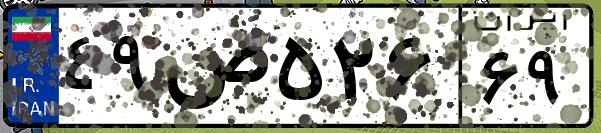2: (330, 28, 385, 110)
4: (57, 26, 110, 100)
5: (270, 28, 330, 110)
6: (385, 28, 445, 110), (475, 38, 525, 113)
9: (525, 38, 570, 115), (110, 28, 158, 98)
ص: (158, 20, 270, 120)
